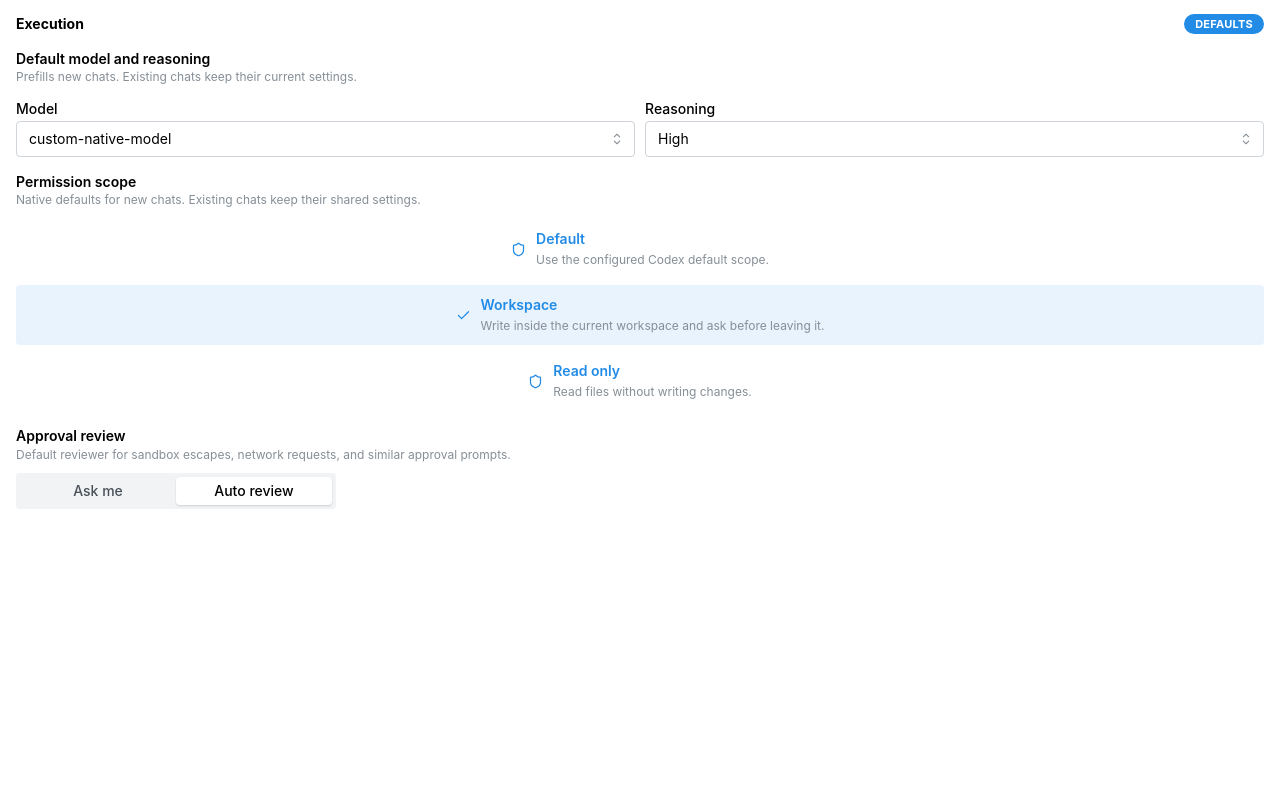
Test: keeps the native effective choice after a saved override instead of treating the submitted value as truth
Click the radio button labelled "Read only Read files without writing changes." at (587, 371), box [16,351,1264,411]
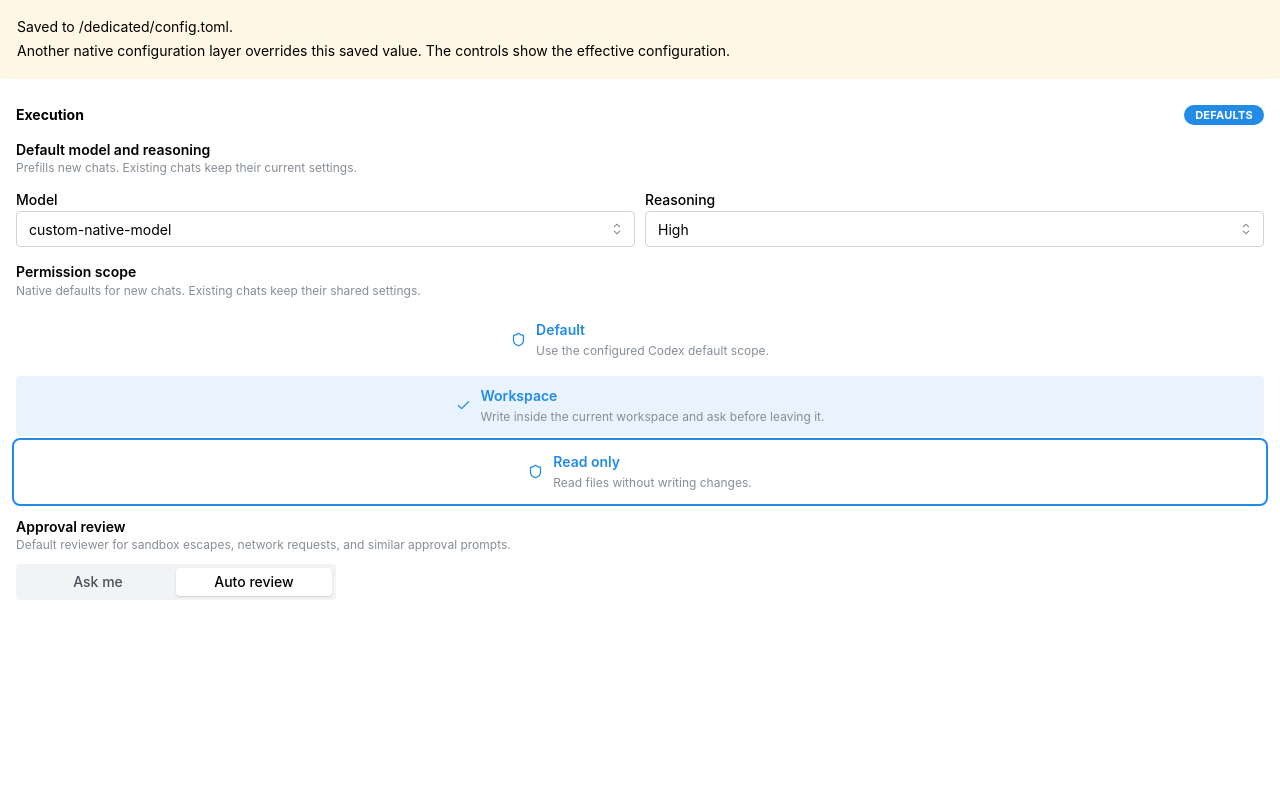
Expected: the radio button labelled "Workspace" is checked, [16,376,1264,436]
Expected: the text "Another native configuration layer overrides" is shown, [17,42,730,59]
